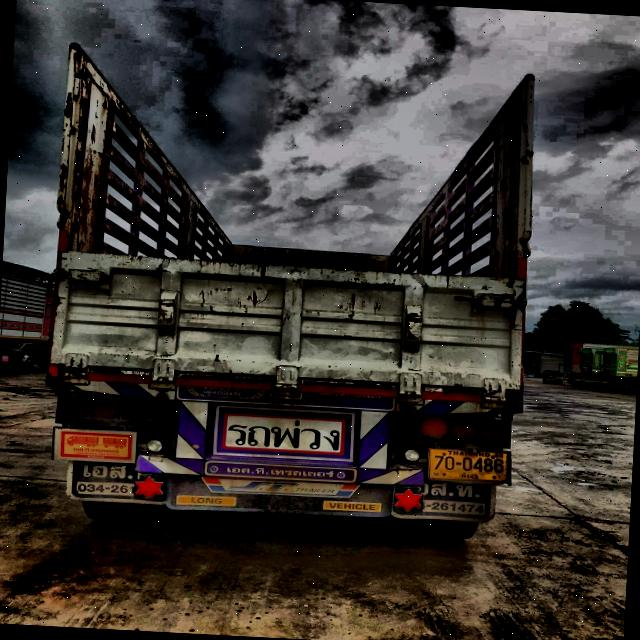trailer: (16, 29, 561, 594)
